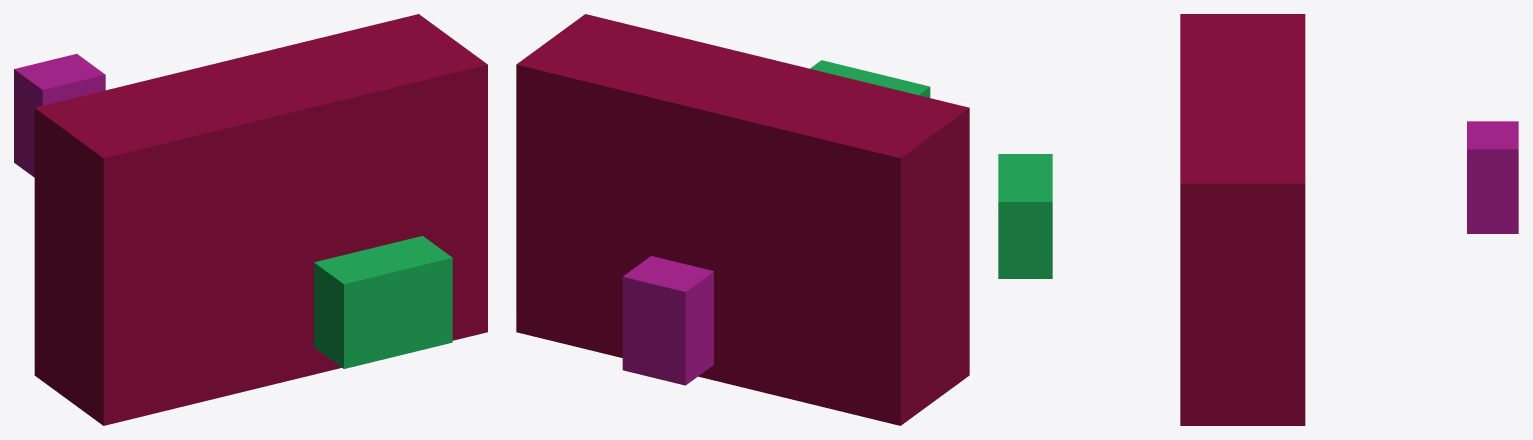
The model's file is test_boxes.DAE.
3 views of the same model, side by side, from view 1: azimuth 30°, elevation 25°; view 2: azimuth 150°, elevation 25°; view 3: azimuth 270°, elevation 25° (orthographic). The views are drawn at different scales.
Parts seen in each view (by area): view 1: Box001, Box002, Box003; view 2: Box001, Box003, Box002; view 3: Box001, Box002, Box003.
Part boxes in pixels (x1=…): Box001: x1=34, y1=14, x2=487, y2=425; Box002: x1=314, y1=236, x2=452, y2=368; Box003: x1=14, y1=54, x2=105, y2=177; Box001: x1=516, y1=14, x2=969, y2=425; Box003: x1=622, y1=256, x2=713, y2=385; Box002: x1=810, y1=60, x2=930, y2=97; Box001: x1=1180, y1=14, x2=1305, y2=425; Box002: x1=998, y1=154, x2=1052, y2=278; Box003: x1=1467, y1=121, x2=1518, y2=233.
Bounding box in the file's own units: 83.18 × 108 × 55.35.
